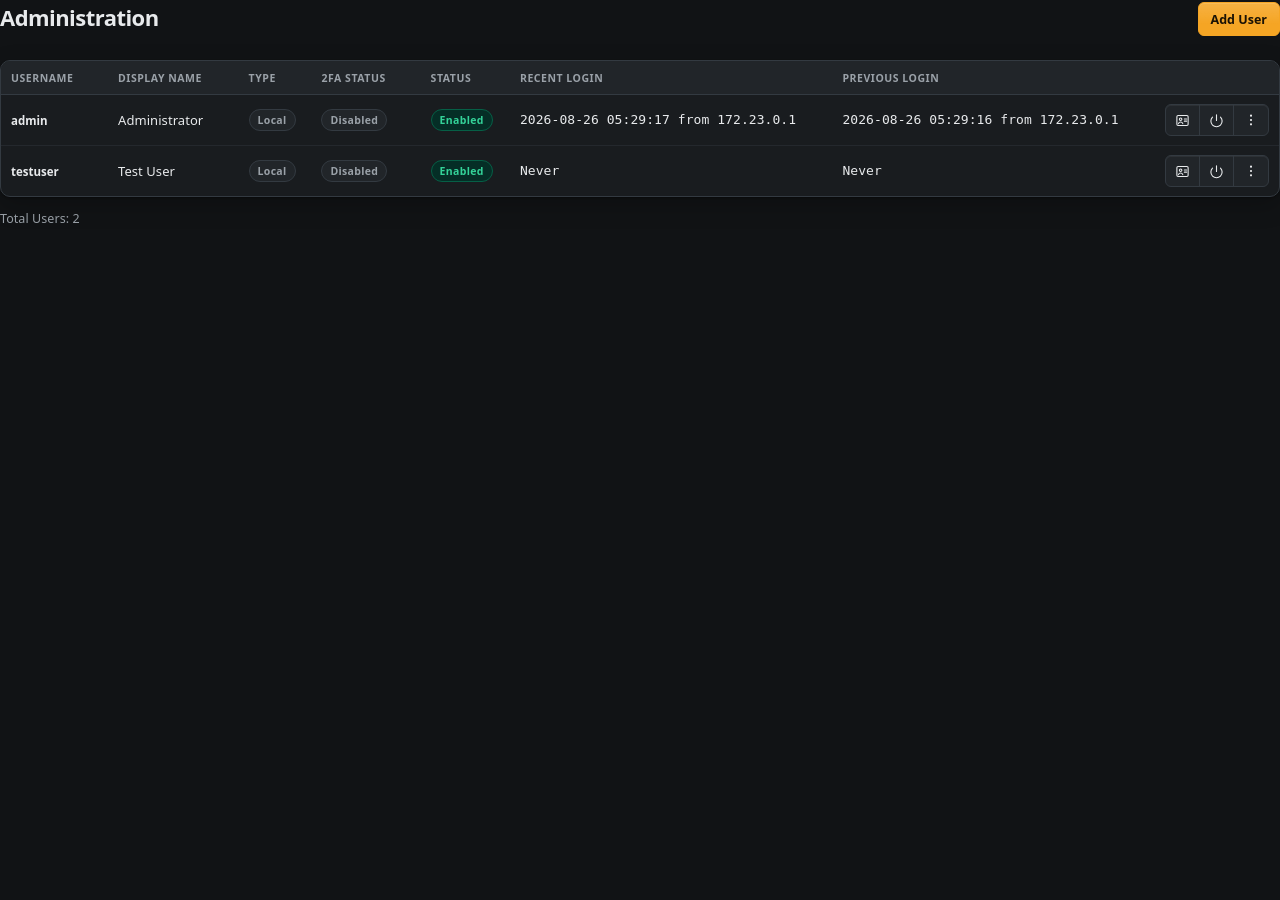
Test case: Users: enable and disable › deleting asks for confirmation and takes the row out of the table
Click the button named "Actions for " at (1251, 171), box [1234,156,1268,186]
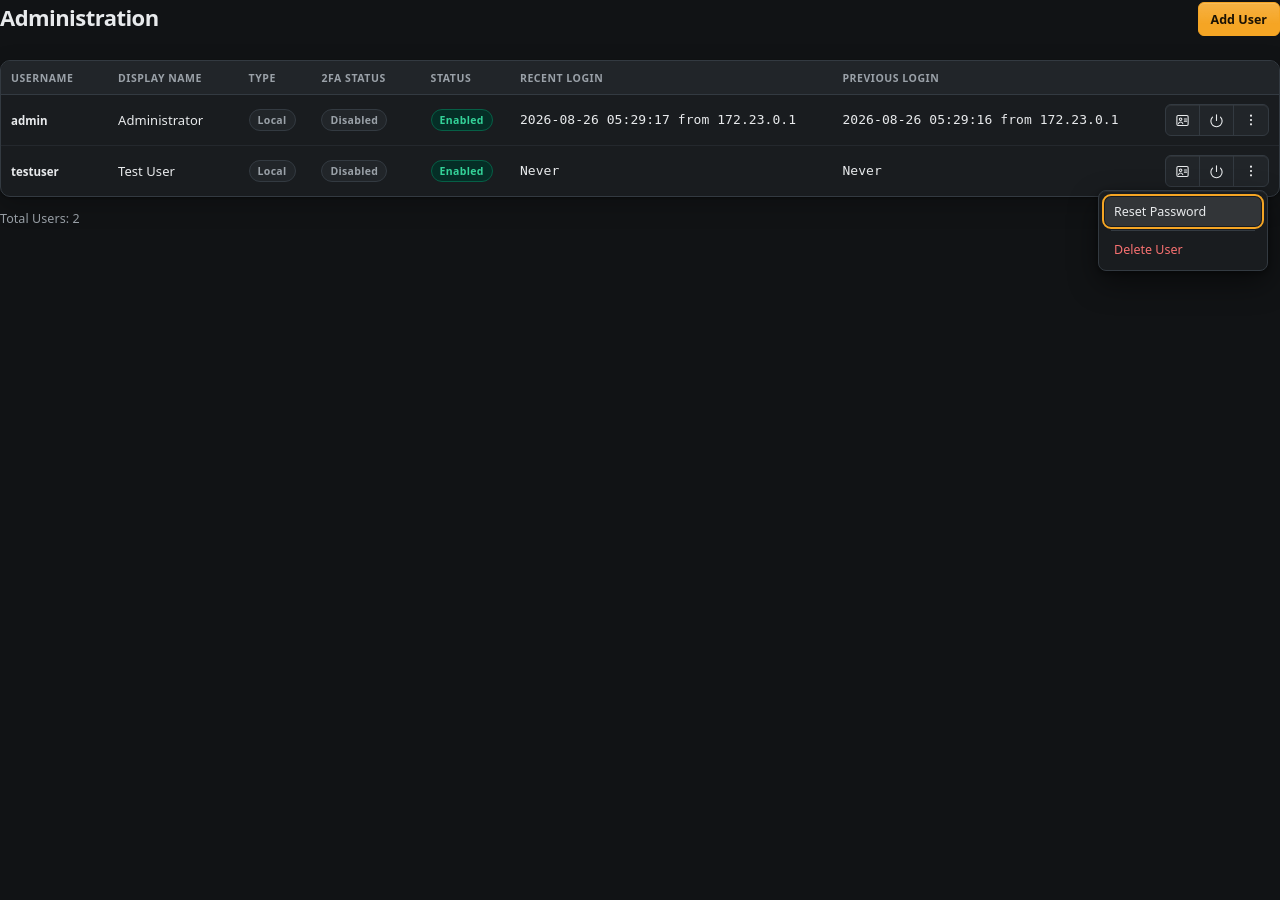
Click the menu item "Delete User" at (1183, 250), box [1105,235,1261,264]
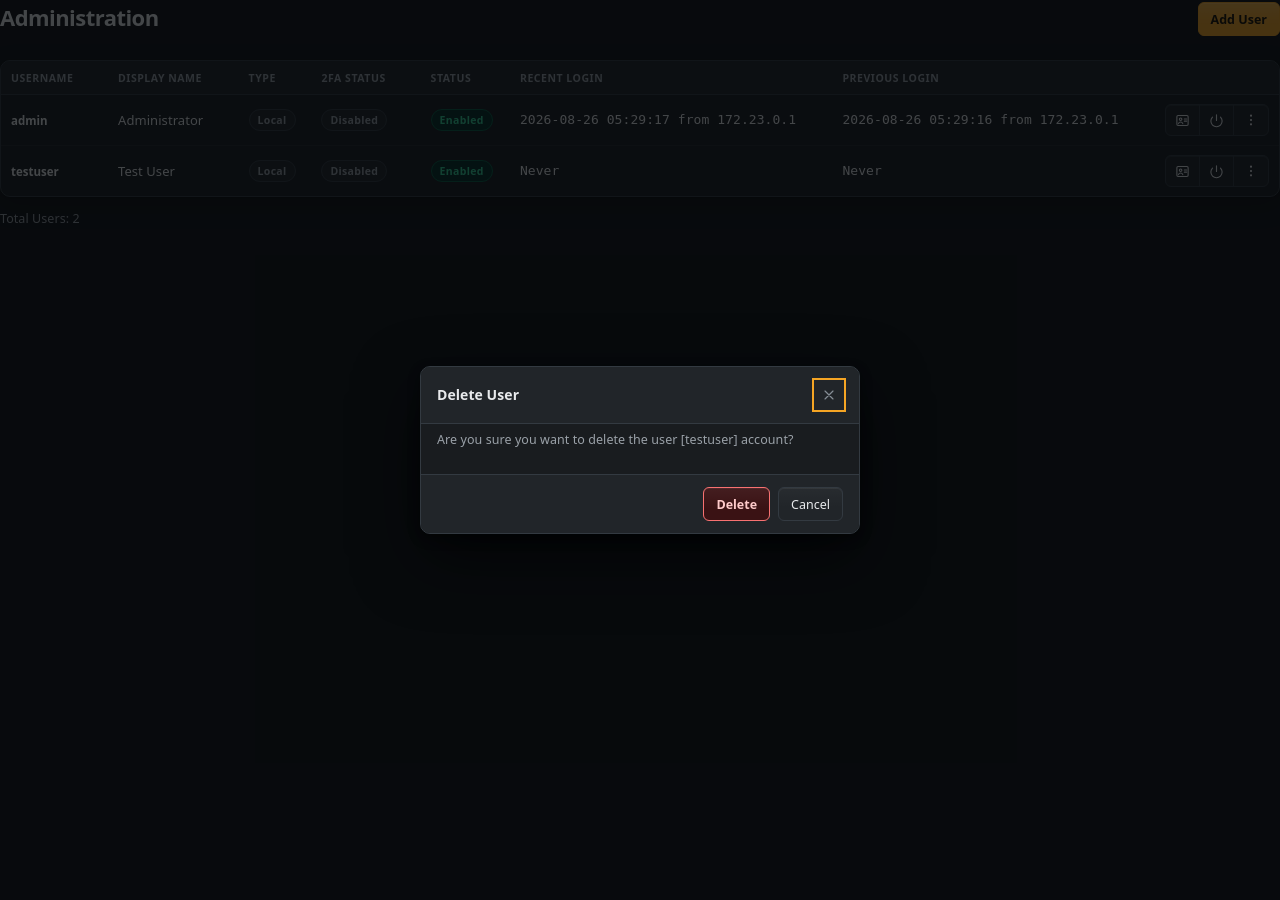
Now the text "Are you sure you want to delete the user [testuser] account?" is shown, box [437,430,843,450]
Click the button "Delete" at (737, 504), box [703,487,770,521]
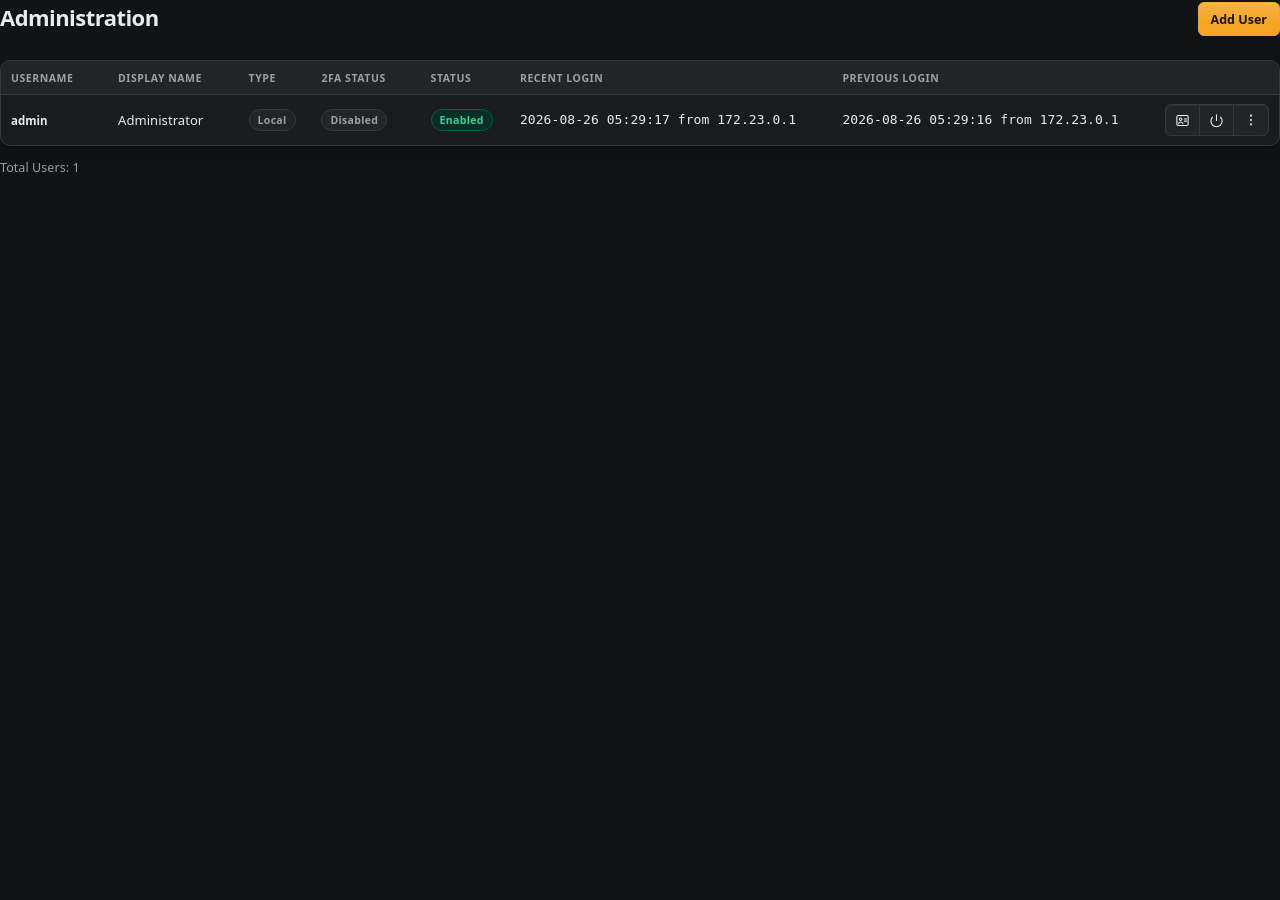
Now the text "Total Users: 1" is shown, box [0,158,80,178]
